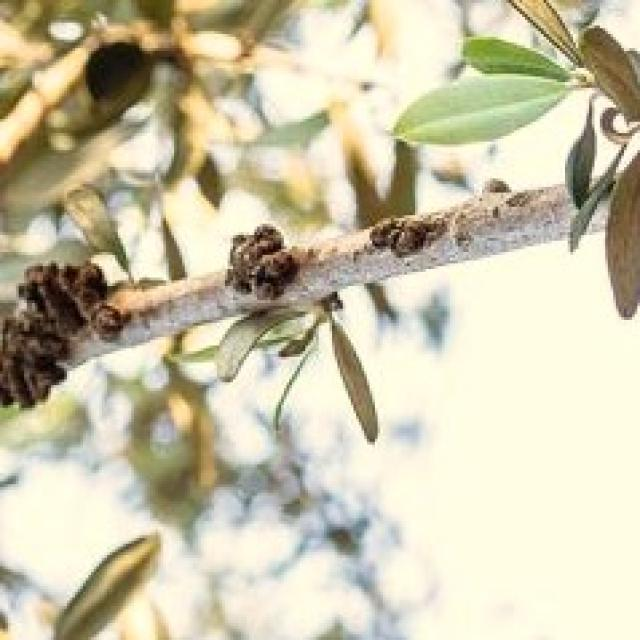Tuberculosis: (0, 263, 125, 405), (225, 224, 297, 298), (369, 221, 434, 255)
